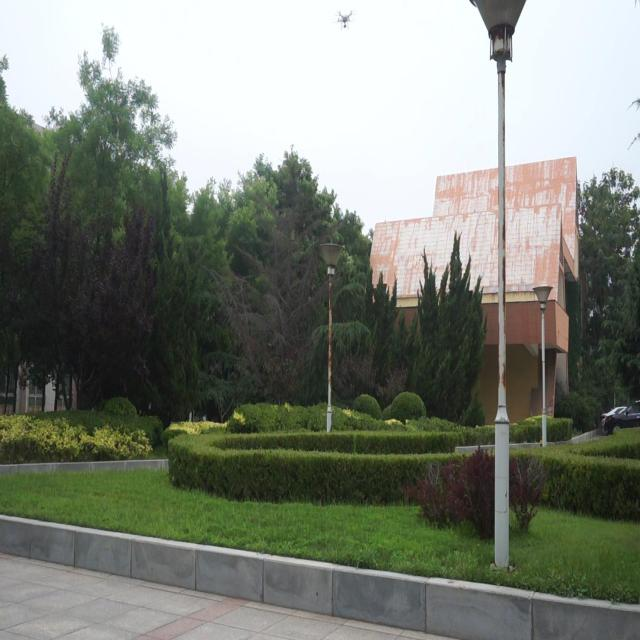drone: (335, 8, 354, 32)
